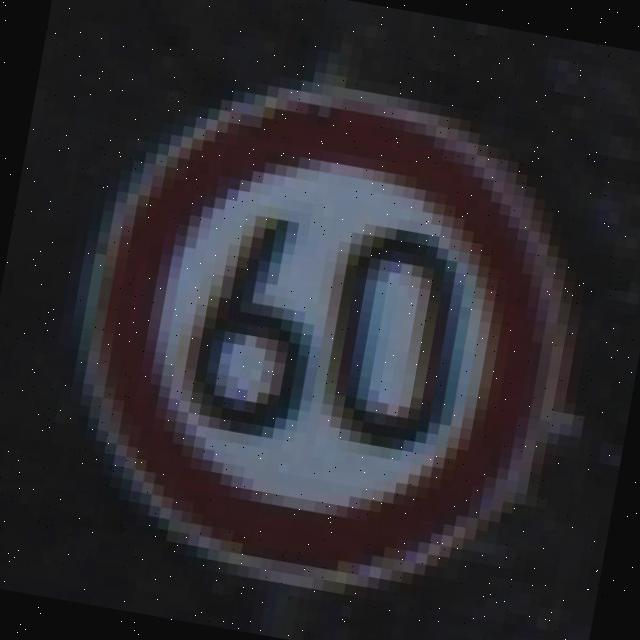Ograniczenie predkosci do 60: (59, 66, 592, 610)
